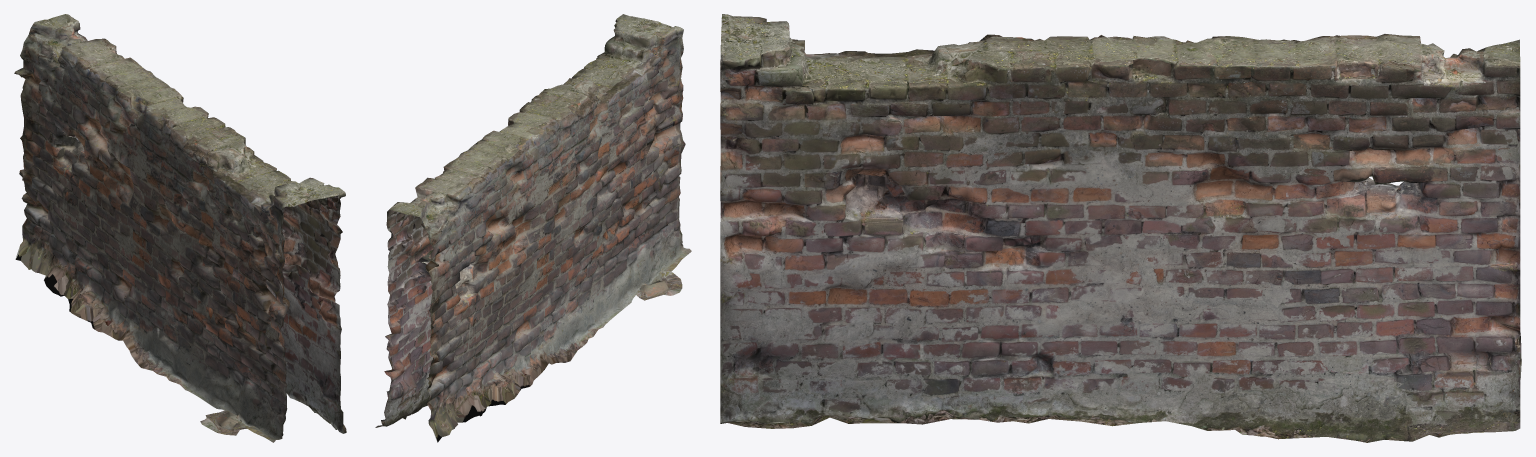
File: SM_Fence_02_01.fbx
3 renders of one model, left to right at view 1: azimuth 30°, elevation 25°; view 2: azimuth 150°, elevation 25°; view 3: azimuth 270°, elevation 25°, orthographic. The views are drawn at different scales.
Visible parts, largest first — view 1: sm_Fence_02_01_LOD0; view 2: sm_Fence_02_01_LOD0; view 3: sm_Fence_02_01_LOD0.
Boxes of the visible parts, left/top/right/bottom form: sm_Fence_02_01_LOD0: left=14, top=14, right=346, bottom=442; sm_Fence_02_01_LOD0: left=375, top=14, right=691, bottom=442; sm_Fence_02_01_LOD0: left=720, top=14, right=1521, bottom=442.
Size of the model in its own units: 390 by 91.45 by 210.
